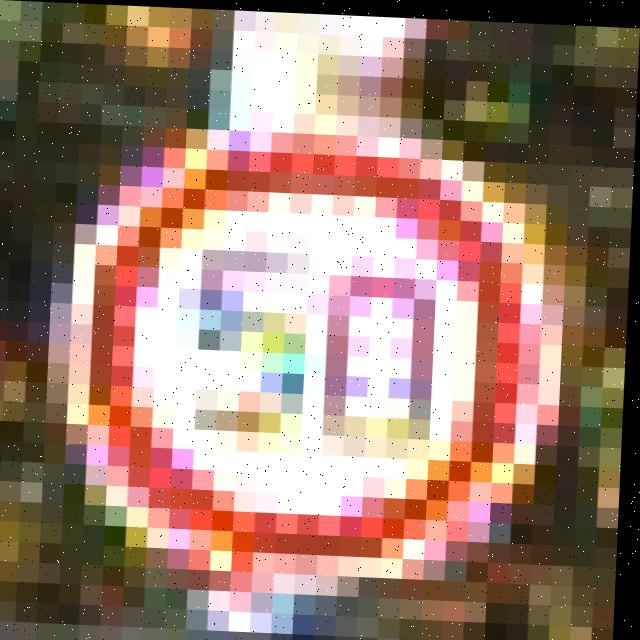speed_limit_50: (51, 110, 565, 602)
